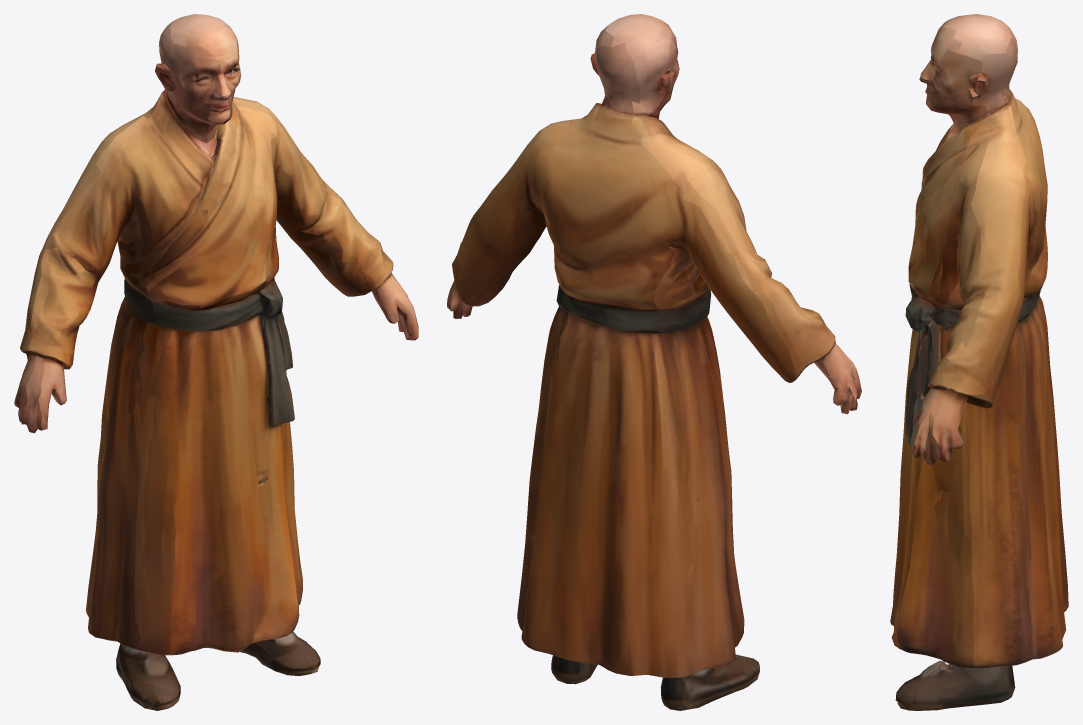
Rendered from libin_textured.glb.
3 renders of one model, left to right at view 1: azimuth 30°, elevation 25°; view 2: azimuth 150°, elevation 25°; view 3: azimuth 270°, elevation 25°, orthographic. The views are drawn at different scales.
Visible parts, largest first — view 1: geometry_0; view 2: geometry_0; view 3: geometry_0.
Part boxes in pixels (x1,y1,x2,y2): geometry_0: [14, 14, 418, 710]; geometry_0: [447, 14, 861, 710]; geometry_0: [890, 14, 1068, 710].
Size of the model in its own units: 1.12 by 1.75 by 0.4352.
1 material, 1 textured.
